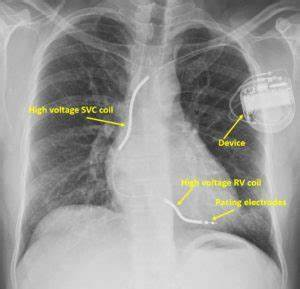telestration: (27, 102, 114, 116), (215, 196, 289, 208), (179, 177, 263, 187), (208, 208, 241, 223), (85, 115, 126, 126), (223, 112, 241, 137), (218, 137, 247, 148), (178, 187, 194, 205)
